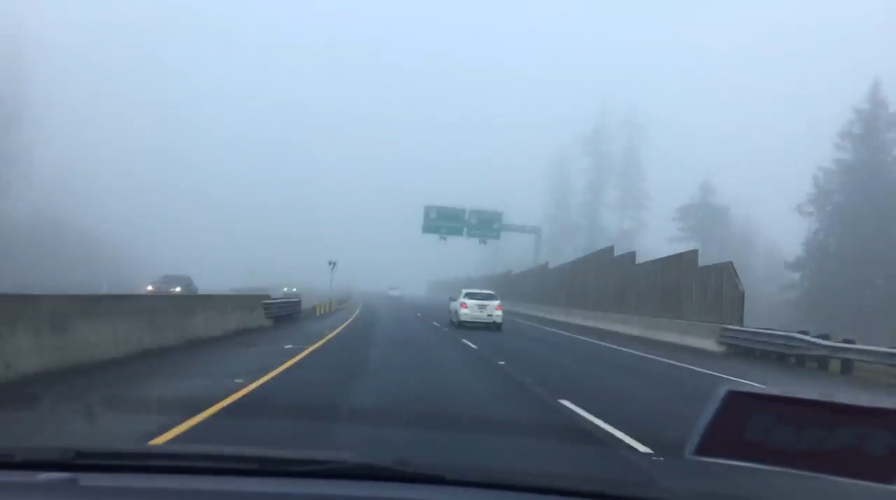car: (446, 285, 505, 333), (143, 271, 199, 303), (280, 282, 302, 295)
